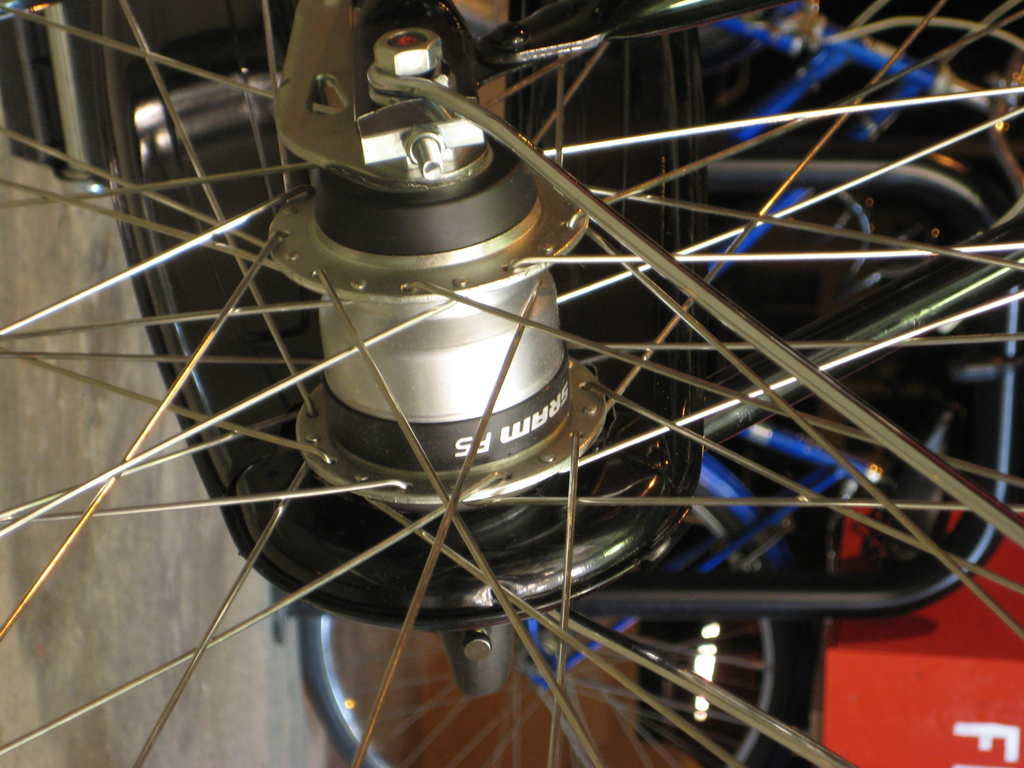Bicycle: (274, 14, 1023, 767)
